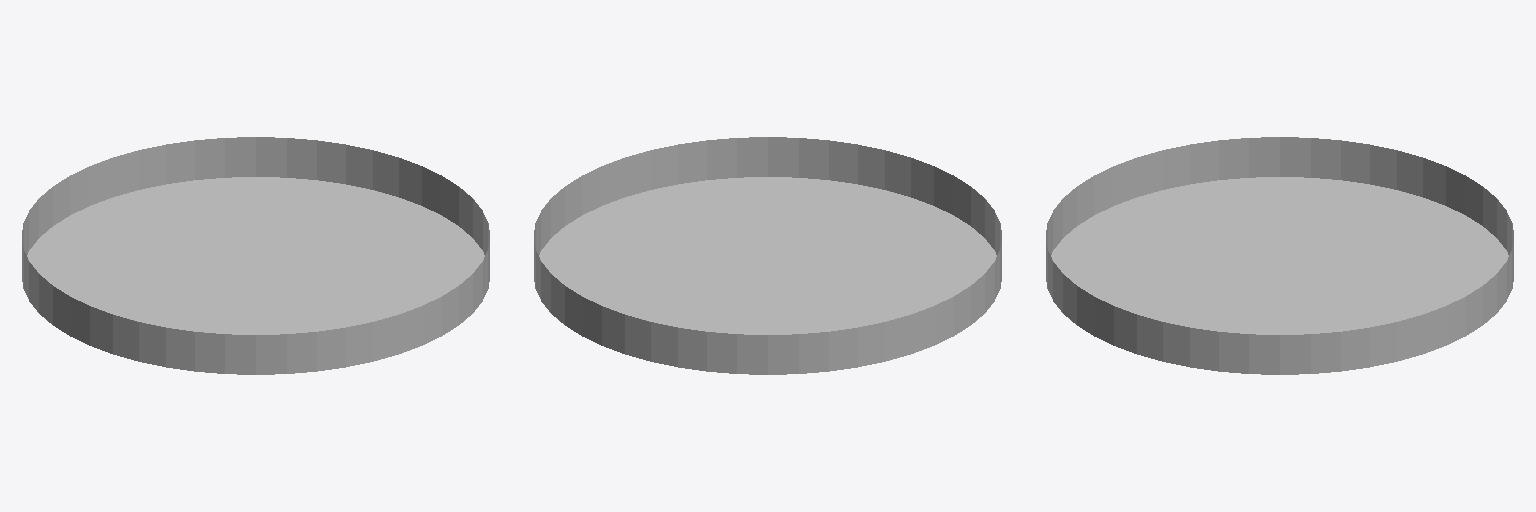
File: board_play_position11.obj
3 renders of one model, left to right at view 1: azimuth 30°, elevation 25°; view 2: azimuth 150°, elevation 25°; view 3: azimuth 270°, elevation 25°, orthographic.
Visible parts, largest first — view 1: board.010_ID320; view 2: board.010_ID320; view 3: board.010_ID320.
Part boxes in pixels (x1,y1,x2,y2): board.010_ID320: (22,137,489,374); board.010_ID320: (534,137,1001,374); board.010_ID320: (1046,137,1513,374).
Size of the model in its own units: 1.26 by 0.1181 by 1.26.